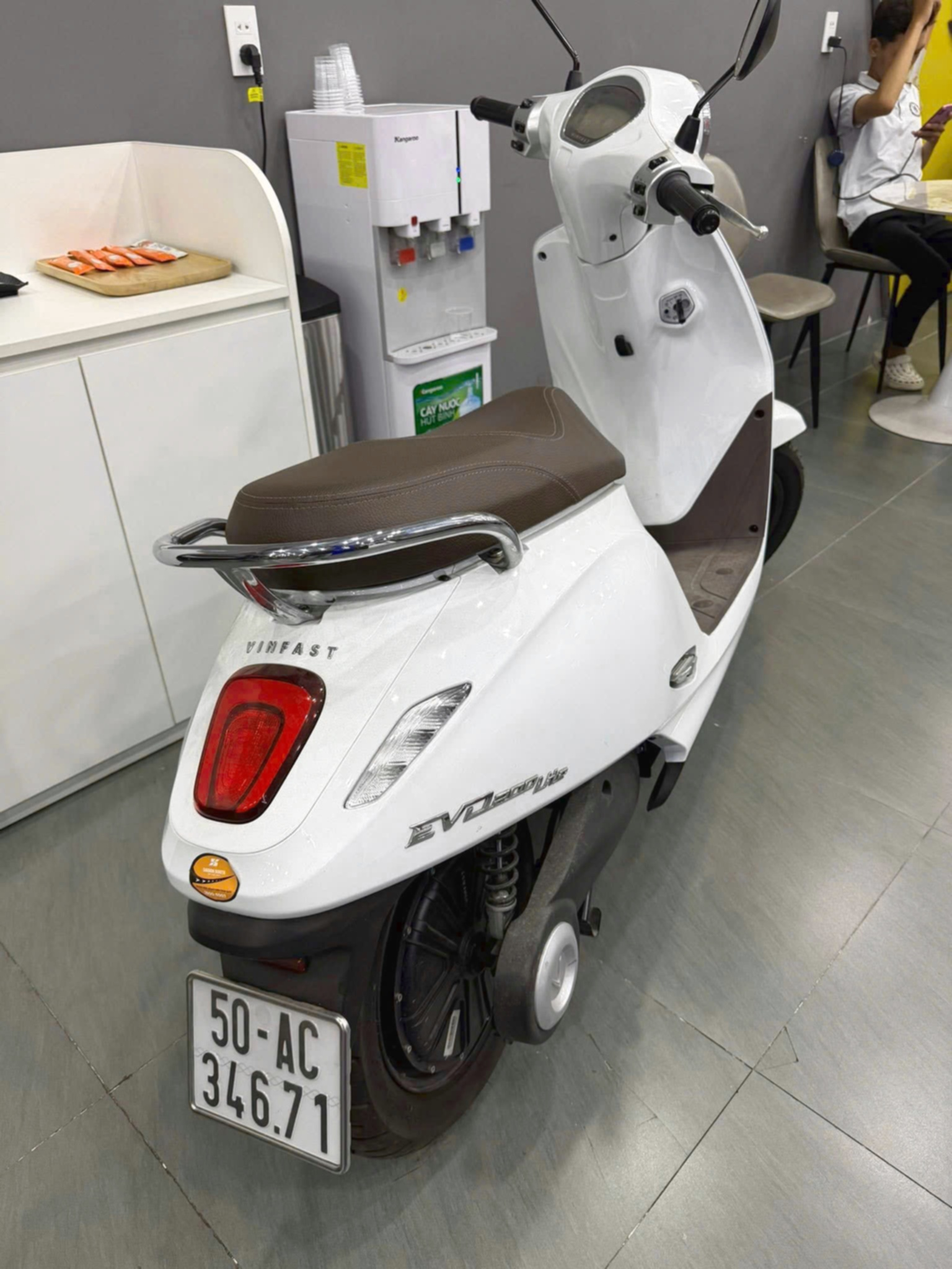Bien-so: (176, 961, 337, 1170)
